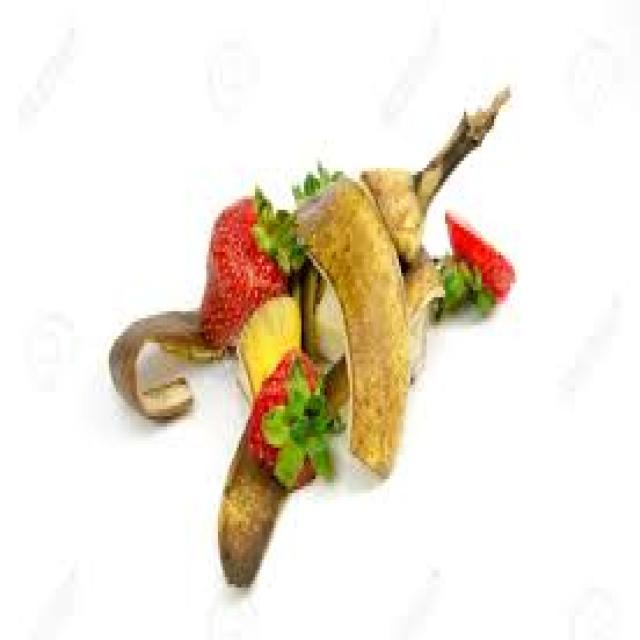Organik: (90, 58, 552, 598), (355, 115, 573, 348), (196, 145, 307, 372)
